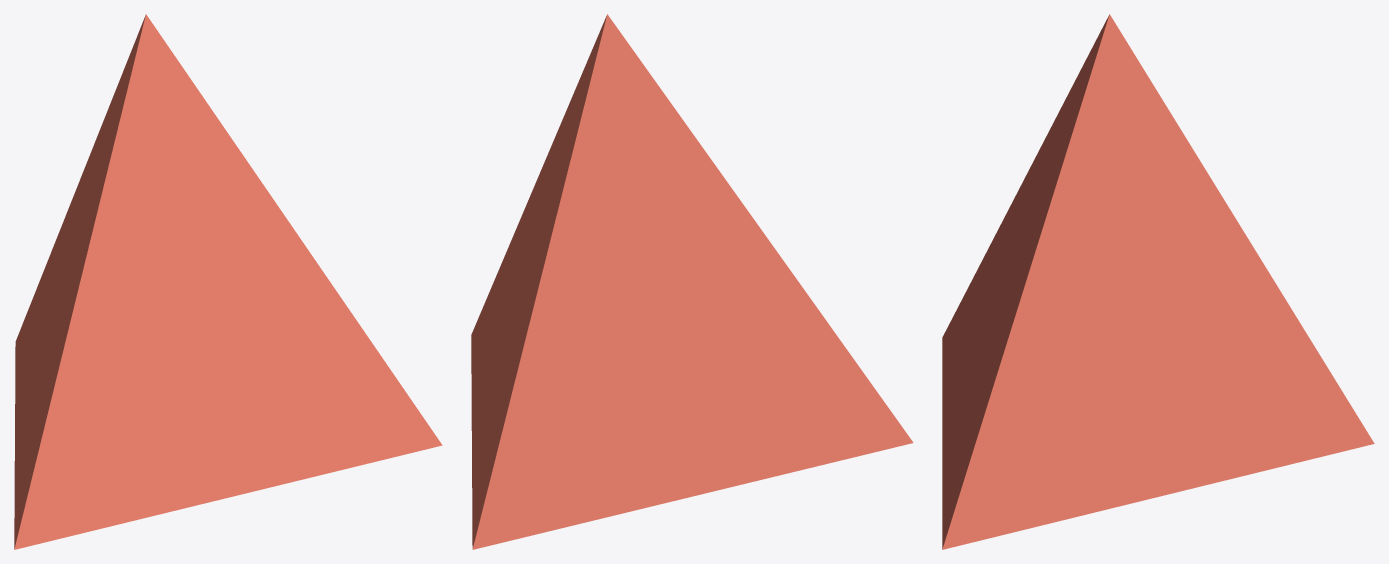
File: impact-countdown.glb
The picture shows the model from 3 angles, left to right: view 1: azimuth 30°, elevation 25°; view 2: azimuth 150°, elevation 25°; view 3: azimuth 270°, elevation 25°; orthographic projection. The views are drawn at different scales.
Visible parts, largest first — view 1: MissionFallbackModel; view 2: MissionFallbackModel; view 3: MissionFallbackModel.
Part boxes in pixels (<box>): MissionFallbackModel: <box>14,14,442,549</box>; MissionFallbackModel: <box>471,14,913,549</box>; MissionFallbackModel: <box>942,14,1374,549</box>.
Bounding box in the file's own units: 1.8 × 1.7 × 1.55.
